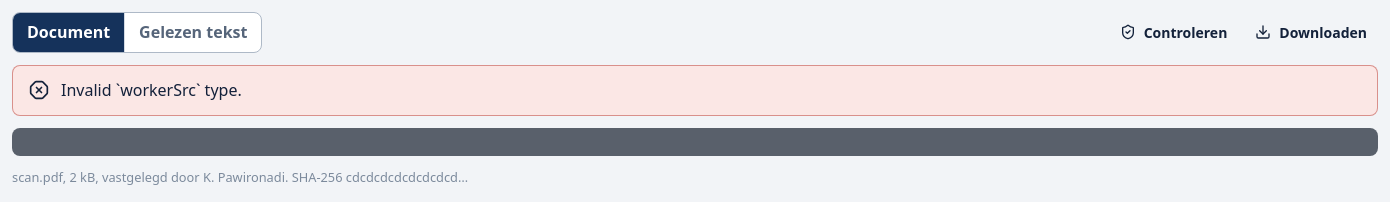
it: Document viewer › says so plainly when a stored file no longer matches its fingerprint
What coordinates should you click on to do the following:
click the button "Controleren"
I would click on:
 (1173, 32)
Its box is [1109,16,1238,48].
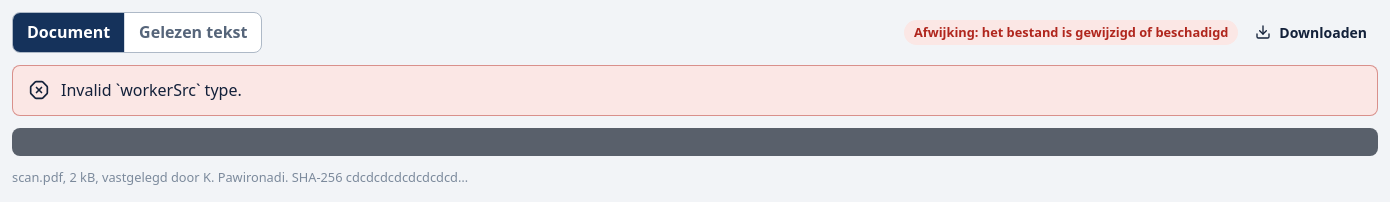
Result: the text "Afwijking: het bestand is gewijzigd of beschadigd" is shown at [904,20,1238,45]
